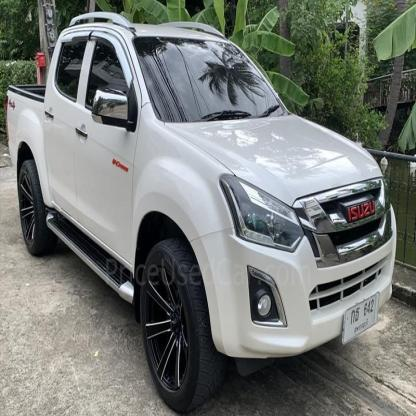Tire: (132, 203, 216, 414), (17, 151, 59, 257)
Wheel hub: (144, 266, 188, 393), (20, 175, 34, 244)
